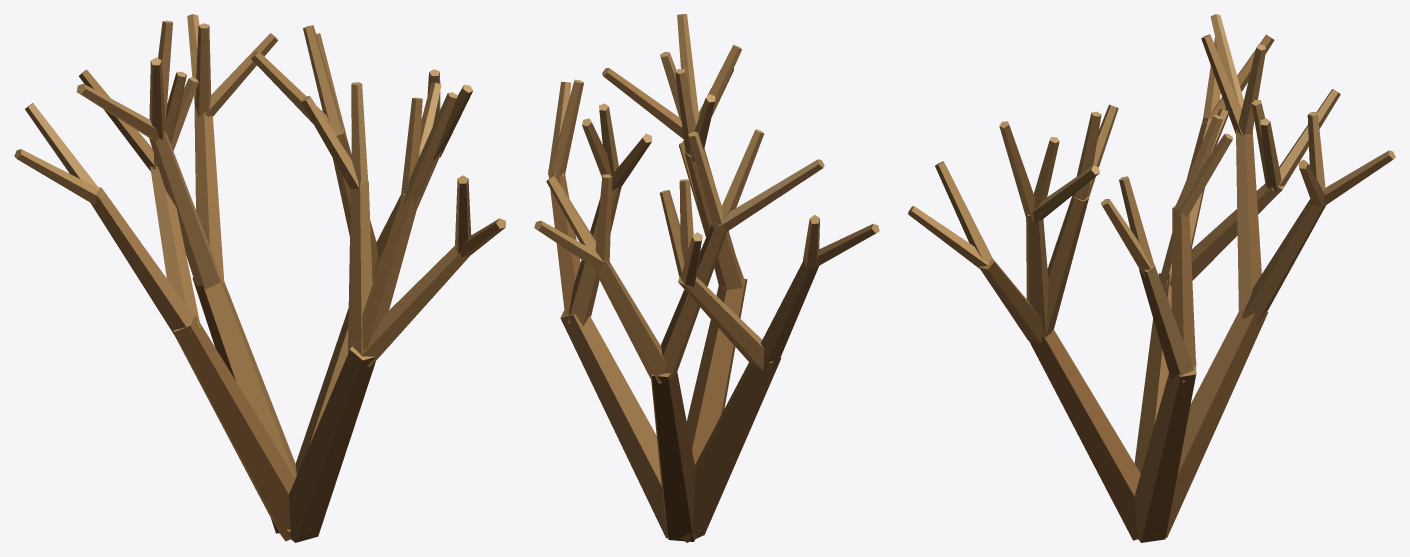
Rendered from SM_DRY_BUSH_01.fbx.
The picture shows the model from 3 angles, left to right: view 1: azimuth 30°, elevation 25°; view 2: azimuth 150°, elevation 25°; view 3: azimuth 270°, elevation 25°; orthographic projection. The views are drawn at different scales.
Visible parts, largest first — view 1: DRY_BUSH_01; view 2: DRY_BUSH_01; view 3: DRY_BUSH_01.
Part boxes in pixels (x1,y1,x2,y2): DRY_BUSH_01: (14,14,505,542); DRY_BUSH_01: (534,14,879,542); DRY_BUSH_01: (908,14,1395,542).
Bounding box in the file's own units: 0.5909 × 0.6711 × 0.6937.
